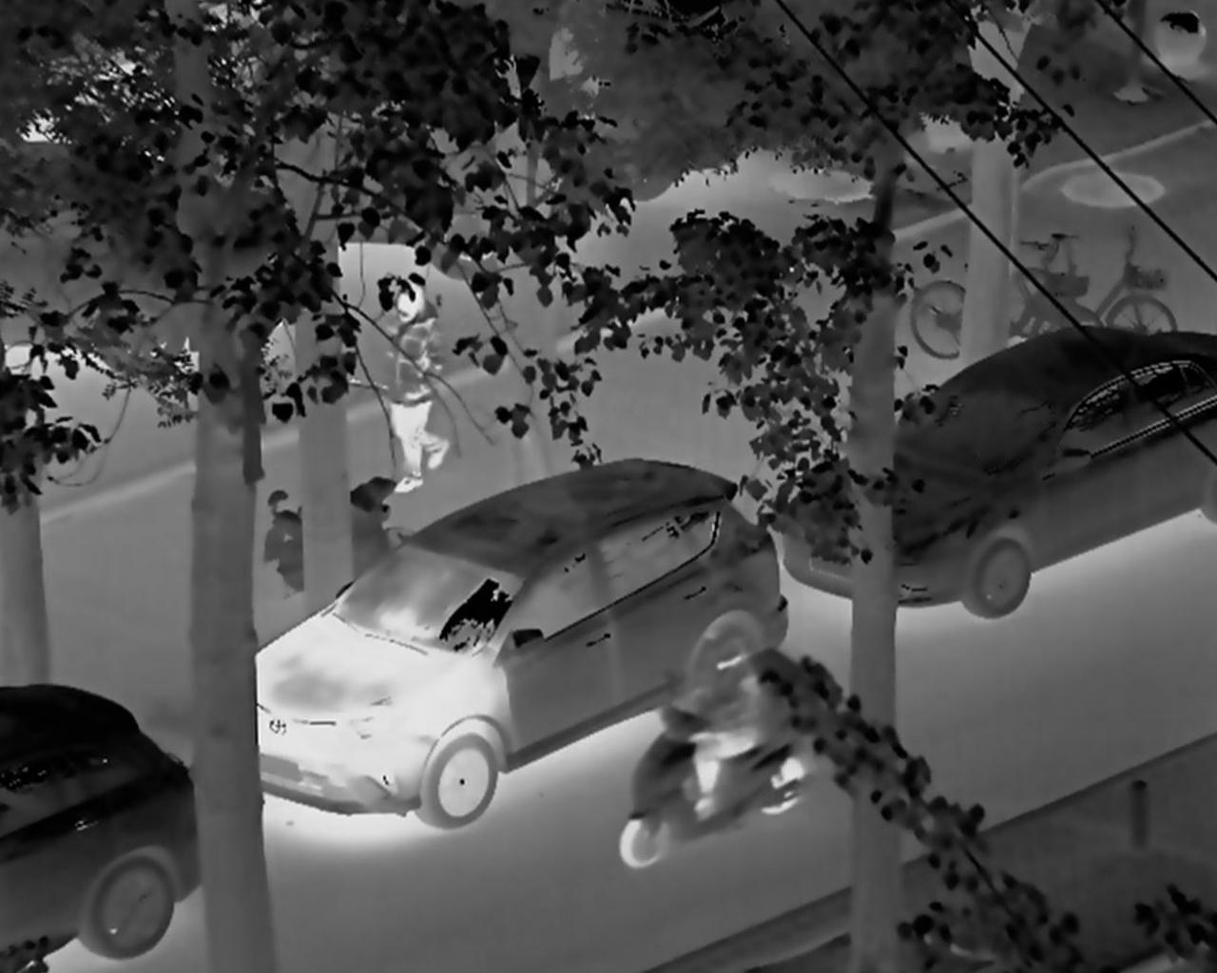person: (662, 639, 766, 840), (380, 261, 456, 499)
